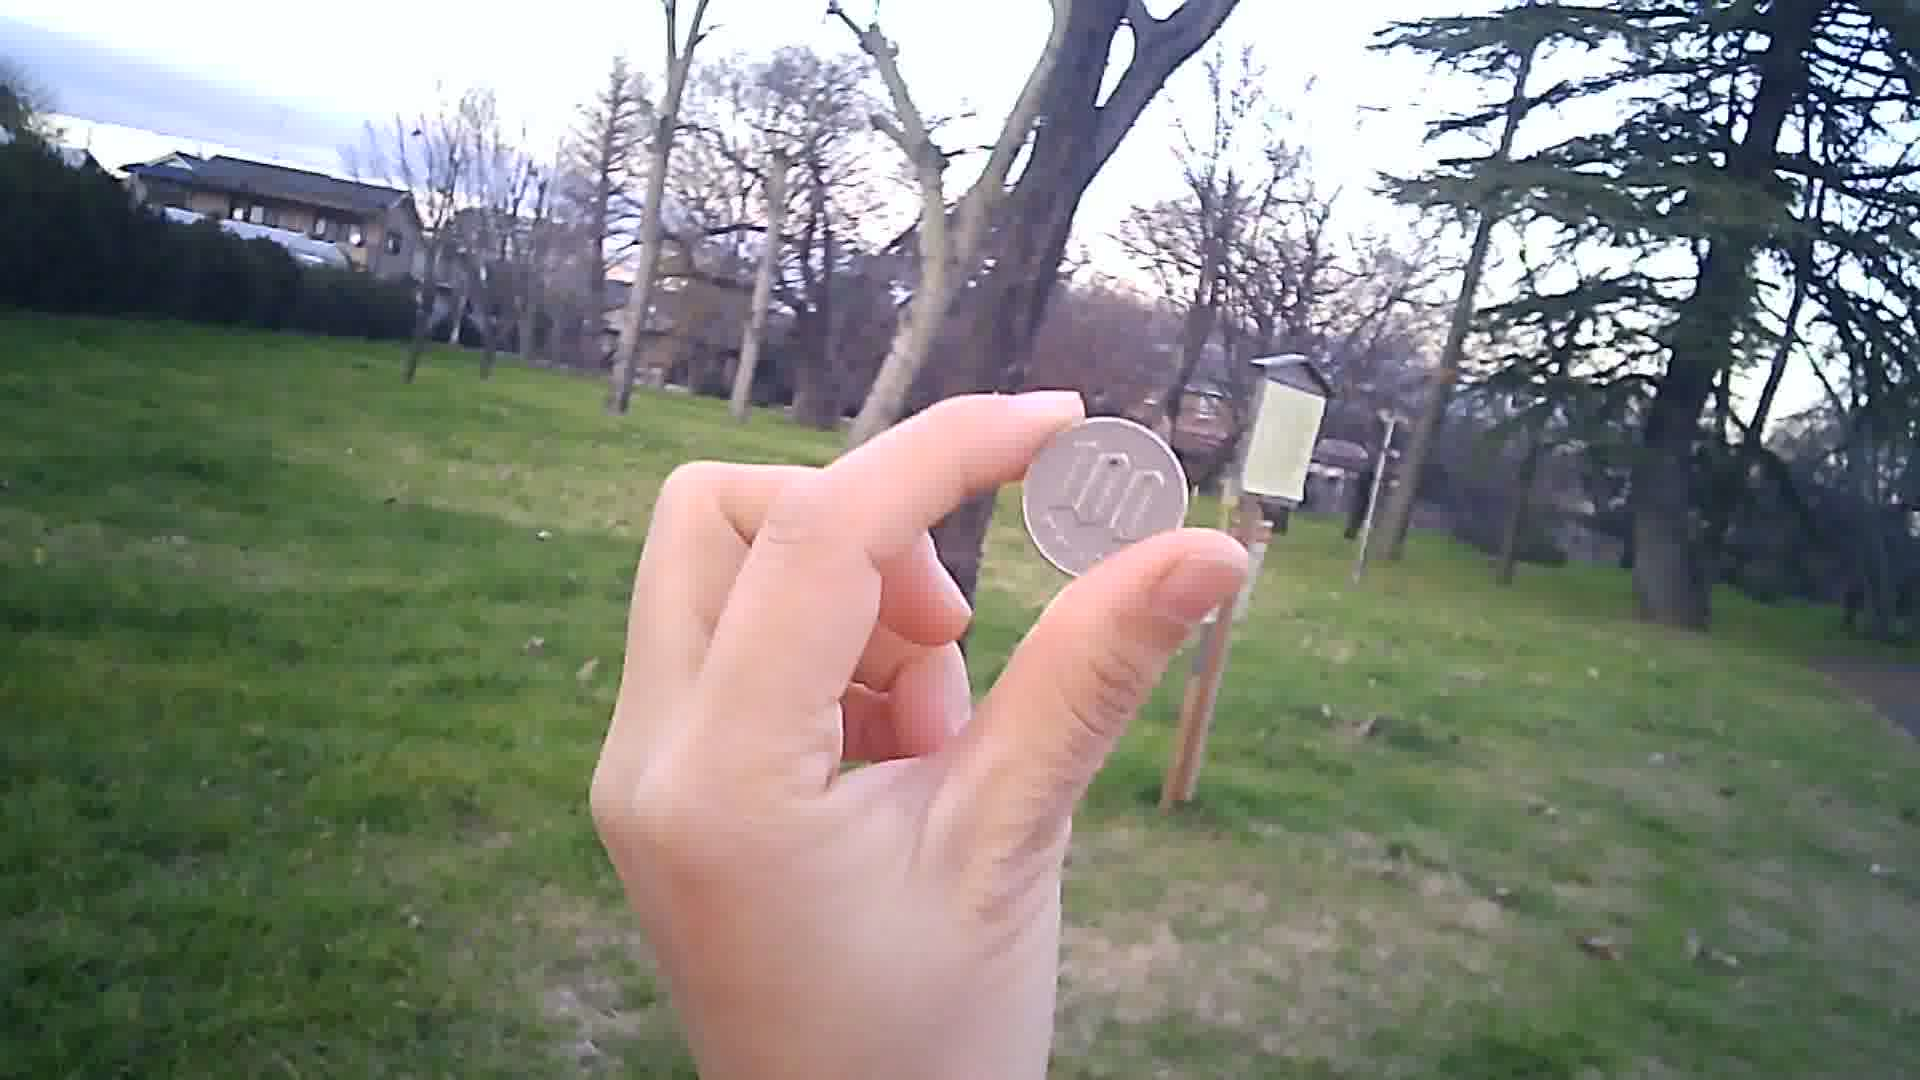100 Yen: (1015, 410, 1203, 575)
